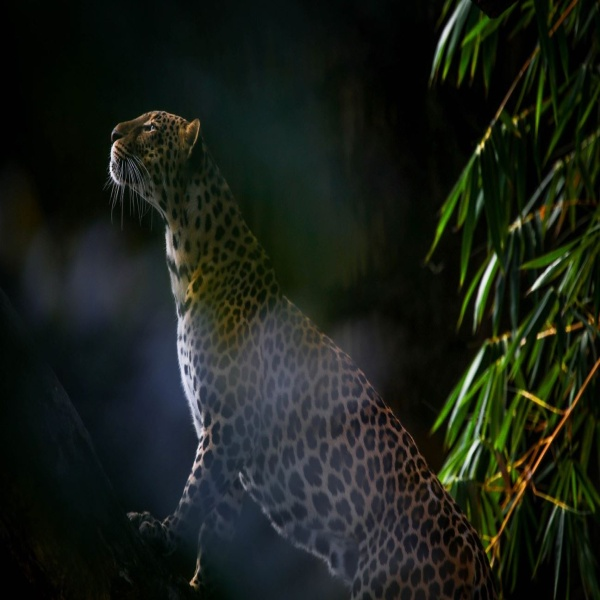Leopard: (97, 104, 502, 600)
